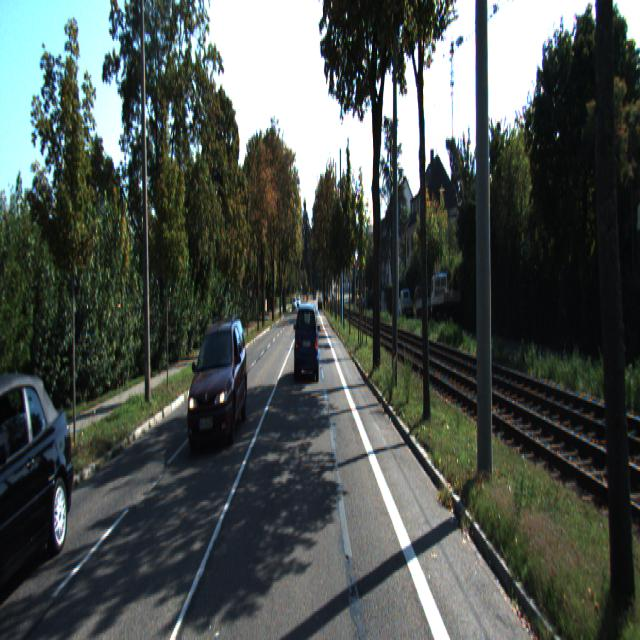Car: (0, 359, 84, 616), (184, 318, 248, 453), (294, 298, 320, 381), (430, 270, 460, 326), (413, 282, 434, 322)
